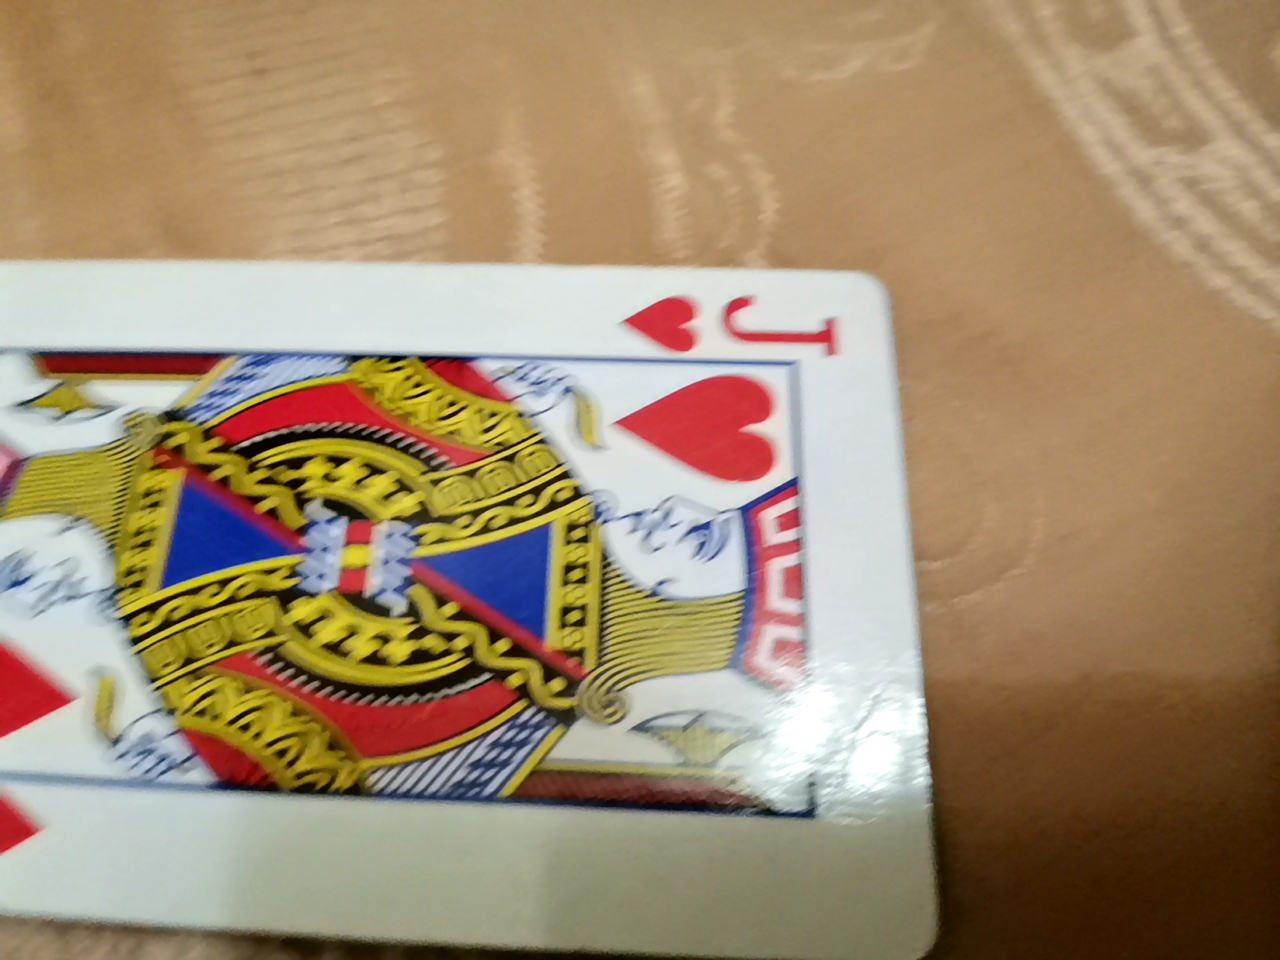hx j: (1, 275, 896, 953)
